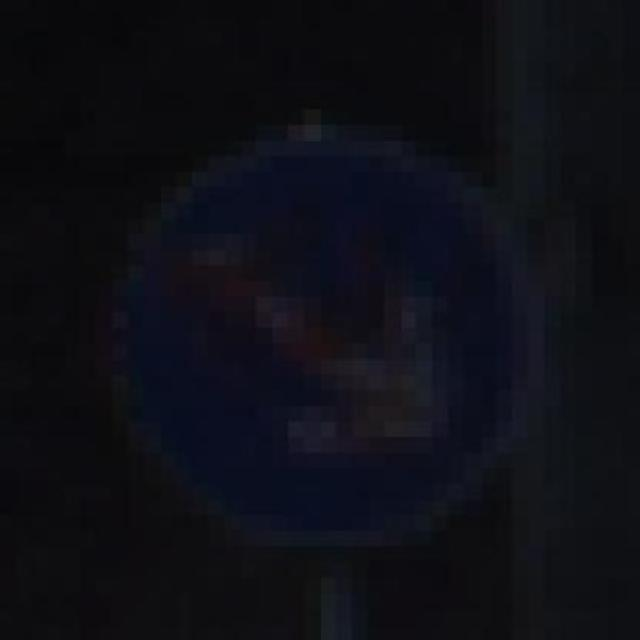Keep-Right: (96, 109, 576, 562)
